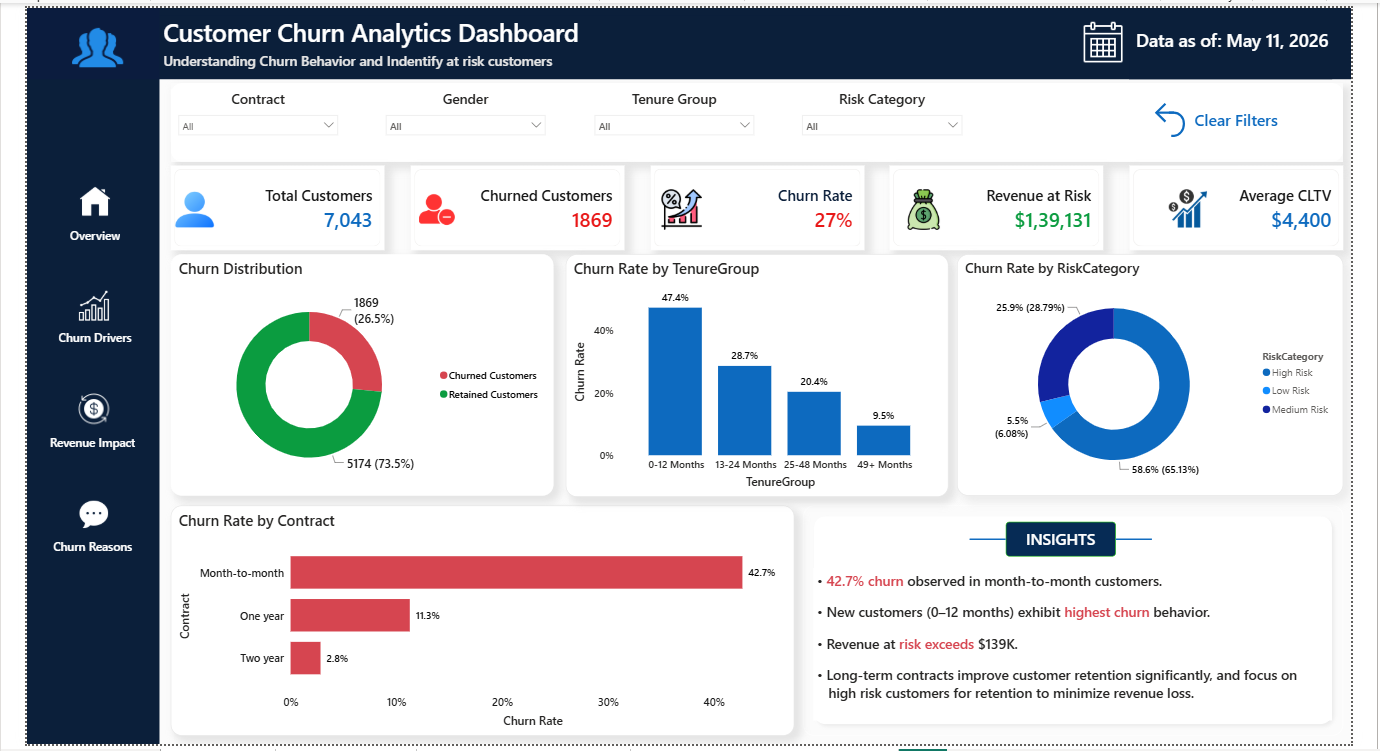

This screenshot's page, from the dashboard's own definition file:
{"tool":"powerbi","page":{"name":"Overview","canvas":[1800,1000],"ordinal":0},"visuals":[{"type":"shape","box":[1054.7,676,733.7,312.5],"z":0},{"type":"shape","box":[195.3,101.9,1593.1,107],"z":1000},{"type":"shape","box":[0,0,1800.3,96.8],"z":2000},{"type":"textbox","title":"Customer Churn Analytics  Dashboard","box":[180,10.2,937.5,74.7],"z":3000},{"type":"shape","box":[0,0,180,1000.3],"z":4000},{"type":"cardVisual","title":"Total Customers","fields":{"Data":["churn_data.Total Customers"]},"box":[195.3,214,290,115.5],"z":5000},{"type":"image","box":[195.3,246.3,65,55],"z":6000},{"type":"cardVisual","title":"Total Customers","fields":{"Data":["churn_data.Churned Customers"]},"box":[521,214,290,115],"z":7000},{"type":"cardVisual","title":"Total Customers","fields":{"Data":["churn_data.Average CLTV"]},"box":[1498,214,290.4,115.5],"z":8000},{"type":"cardVisual","title":"Total Customers","fields":{"Data":["churn_data.Revenue at Risk"]},"box":[1172.3,214,290,115.5],"z":9000},{"type":"cardVisual","title":"Total Customers","fields":{"Data":["churn_data.Churn Rate"]},"box":[846.6,214,290,115.5],"z":10000},{"type":"image","box":[521.4,246.3,71.3,55],"z":11000},{"type":"image","box":[1548.9,246.3,57,52],"z":12000},{"type":"image","box":[1190.6,246.3,55,55],"z":13000},{"type":"image","box":[861.1,246.3,57,55],"z":14000},{"type":"donutChart","title":"Churn Distribution","fields":{"Y":["churn_data.Churned Customers","churn_data.Retained Customers"]},"box":[195.3,334.6,519.7,327.8],"z":15000},{"type":"barChart","fields":{"Category":["churn_data.Contract"],"Y":["churn_data.Churn Rate"]},"box":[195.3,676,847.5,312.5],"z":16000},{"type":"clusteredColumnChart","fields":{"Y":["churn_data.Churn Rate"],"Category":["churn_data.TenureGroup"]},"box":[732,334.6,519.7,329.5],"z":17000},{"type":"slicer","title":"Contract","fields":{"Values":["churn_data.Contract"]},"box":[195.3,110.4,237,71.3],"z":18000},{"type":"slicer","title":"Risk Category","fields":{"Values":["churn_data.RiskCategory"]},"box":[1042.8,110.4,237.8,71.3],"z":19000},{"type":"slicer","title":"Tenure Group","fields":{"Values":["churn_data.TenureGroup"]},"box":[760.3,110.4,237,71.3],"z":20000},{"type":"slicer","title":"Gender","fields":{"Values":["churn_data.Gender"]},"box":[477.8,110.4,237,71.3],"z":21000},{"type":"actionButton","box":[1523.4,122.3,180,59.4],"z":22000},{"type":"donutChart","fields":{"Y":["churn_data.Churn Rate"],"Category":["churn_data.RiskCategory"]},"box":[1263.6,334.6,524.8,327.8],"z":23000},{"type":"textbox","box":[1329.8,698,149.5,47.6],"z":24000},{"type":"shape","box":[1280.6,572.4,49.3,298.9],"z":25000},{"type":"shape","box":[1479.3,572.4,49.3,298.9],"z":26000},{"type":"textbox","box":[1068.3,760.9,704.8,207.2],"z":27000},{"type":"textbox","title":"Data as of: May 11, 2026","box":[1498,27.2,275.1,69.6],"z":28000},{"type":"image","box":[1389.3,18.7,146.1,57.7],"z":29000},{"type":"image","box":[71.3,203.8,42.5,118.9],"z":30000},{"type":"actionButton","box":[27.2,219.1,130.8,103.6],"z":31000},{"type":"actionButton","box":[23.8,642,130.8,103.6],"z":32000},{"type":"actionButton","box":[23.8,501,130.8,103.6],"z":33000},{"type":"actionButton","box":[27.2,358.4,130.8,103.6],"z":34000},{"type":"image","box":[69.6,344.8,42.5,117.2],"z":35000},{"type":"image","box":[69.6,485.7,42.5,117.2],"z":36000},{"type":"image","box":[69.6,628.4,42.5,117.2],"z":37000},{"type":"shape","box":[0,0,180,96.8],"z":38000},{"type":"image","box":[61.1,13.6,69.6,83.2],"z":39000}]}

Visuals, with their boxes on the page's 1800x1000 design canvas (x1, y1, x2, y2). These are canvas units, not pixel positions in the 1380x751 screenshot, which may show the page scaled, cropped or inside an application window:
shape: x1=1055, y1=676, x2=1788, y2=988
shape: x1=195, y1=102, x2=1788, y2=209
shape: x1=0, y1=0, x2=1800, y2=97
"Customer Churn Analytics  Dashboard" textbox: x1=180, y1=10, x2=1118, y2=85
shape: x1=0, y1=0, x2=180, y2=1000
"Total Customers" cardVisual: x1=195, y1=214, x2=485, y2=330
image: x1=195, y1=246, x2=260, y2=301
"Total Customers" cardVisual: x1=521, y1=214, x2=811, y2=329
"Total Customers" cardVisual: x1=1498, y1=214, x2=1788, y2=330
"Total Customers" cardVisual: x1=1172, y1=214, x2=1462, y2=330
"Total Customers" cardVisual: x1=847, y1=214, x2=1137, y2=330
image: x1=521, y1=246, x2=593, y2=301
image: x1=1549, y1=246, x2=1606, y2=298
image: x1=1191, y1=246, x2=1246, y2=301
image: x1=861, y1=246, x2=918, y2=301
"Churn Distribution" donutChart: x1=195, y1=335, x2=715, y2=662
barChart - churn_data.Contract x churn_data.Churn Rate: x1=195, y1=676, x2=1043, y2=988
clusteredColumnChart - churn_data.Churn Rate x churn_data.TenureGroup: x1=732, y1=335, x2=1252, y2=664
"Contract" slicer: x1=195, y1=110, x2=432, y2=182
"Risk Category" slicer: x1=1043, y1=110, x2=1281, y2=182
"Tenure Group" slicer: x1=760, y1=110, x2=997, y2=182
"Gender" slicer: x1=478, y1=110, x2=715, y2=182
actionButton: x1=1523, y1=122, x2=1703, y2=182
donutChart - churn_data.Churn Rate x churn_data.RiskCategory: x1=1264, y1=335, x2=1788, y2=662
textbox: x1=1330, y1=698, x2=1479, y2=746
shape: x1=1281, y1=572, x2=1330, y2=871
shape: x1=1479, y1=572, x2=1529, y2=871
textbox: x1=1068, y1=761, x2=1773, y2=968
"Data as of: May 11, 2026" textbox: x1=1498, y1=27, x2=1773, y2=97
image: x1=1389, y1=19, x2=1535, y2=76
image: x1=71, y1=204, x2=114, y2=323
actionButton: x1=27, y1=219, x2=158, y2=323
actionButton: x1=24, y1=642, x2=155, y2=746
actionButton: x1=24, y1=501, x2=155, y2=605
actionButton: x1=27, y1=358, x2=158, y2=462
image: x1=70, y1=345, x2=112, y2=462
image: x1=70, y1=486, x2=112, y2=603
image: x1=70, y1=628, x2=112, y2=746
shape: x1=0, y1=0, x2=180, y2=97
image: x1=61, y1=14, x2=131, y2=97
